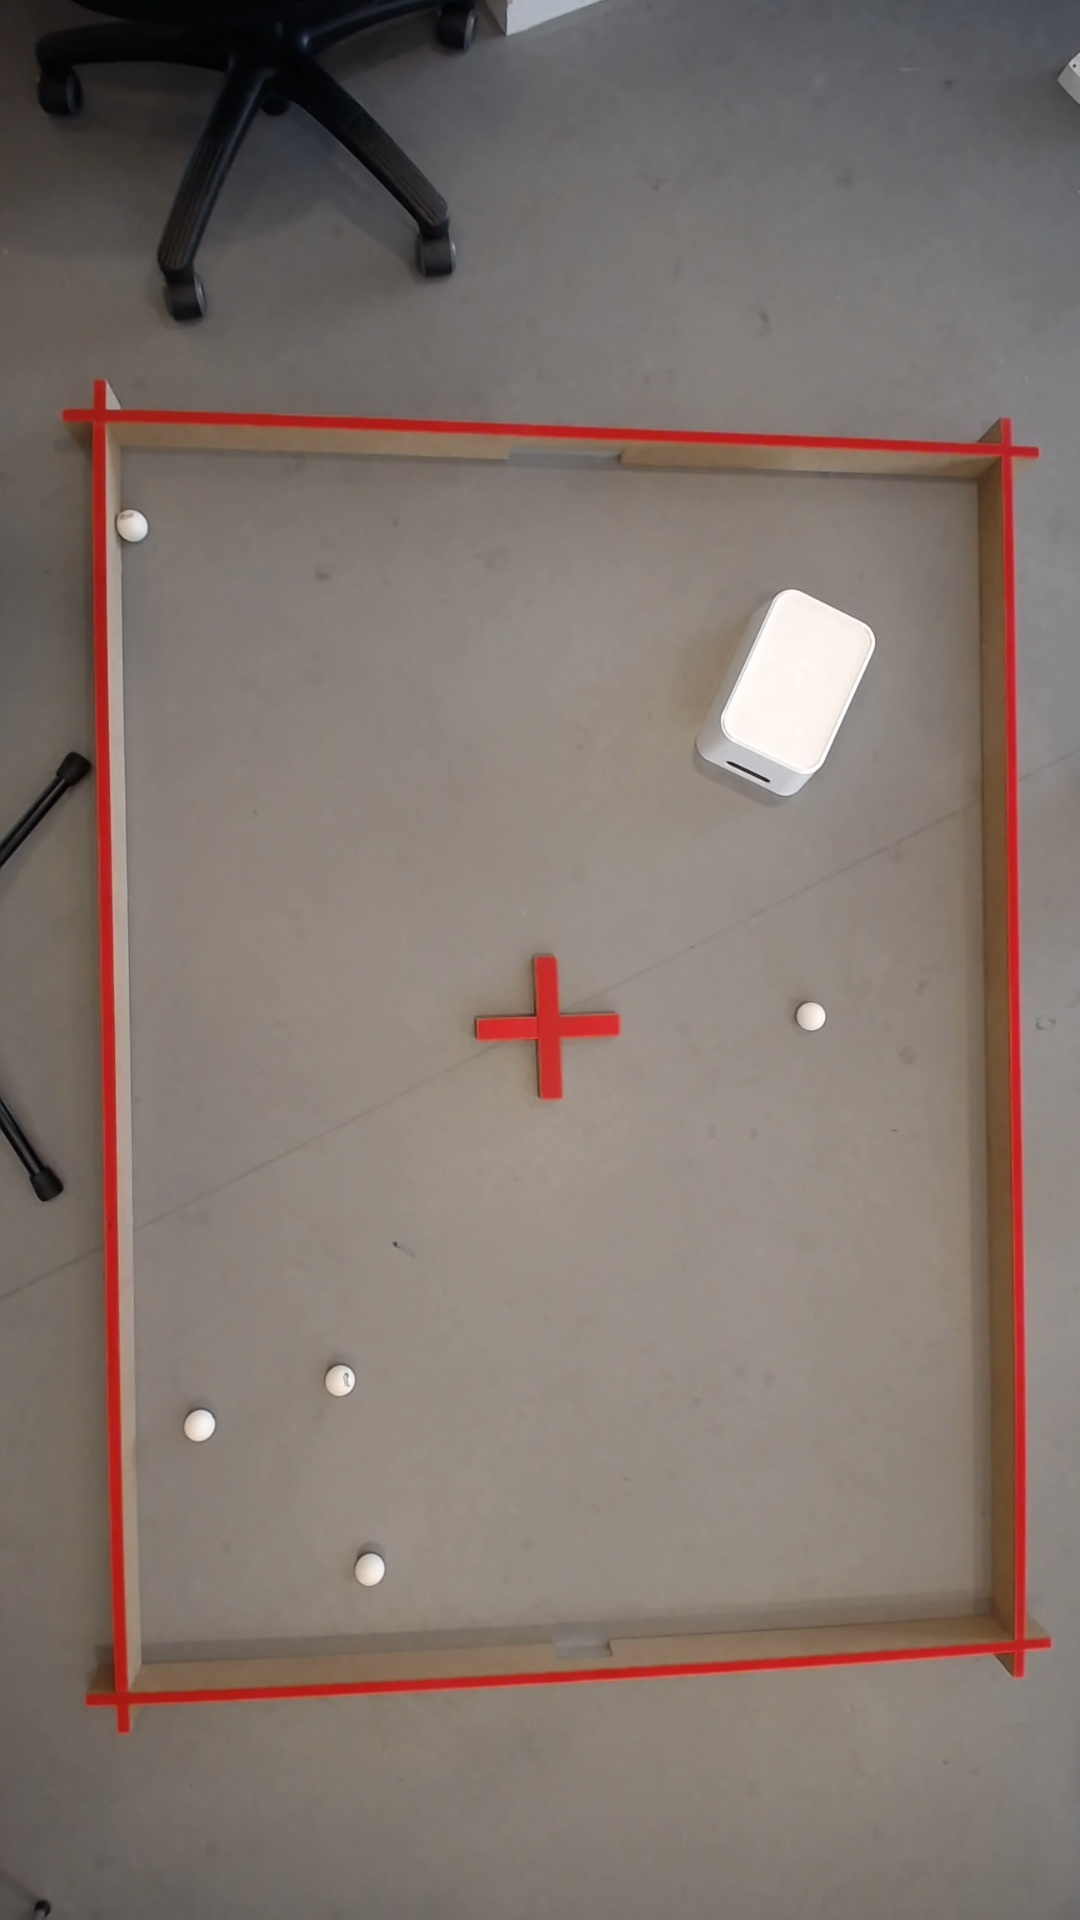balls: (702, 582, 882, 803), (182, 1406, 219, 1445), (355, 1551, 389, 1589), (326, 1362, 359, 1399), (802, 1001, 827, 1031)
car: (119, 508, 153, 542)
